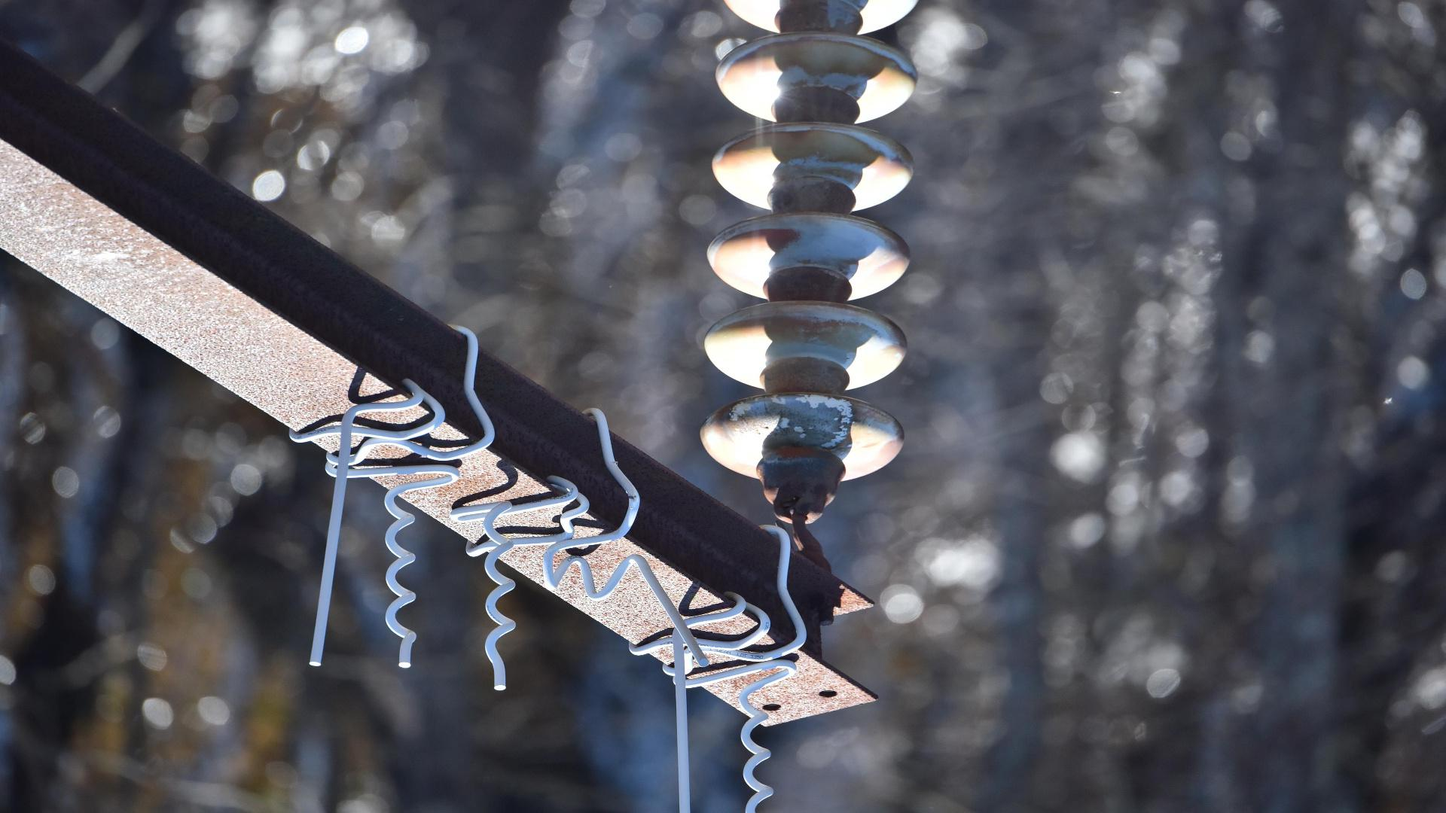insulator: (693, 1, 924, 483)
insulator_flashover: (728, 390, 854, 453)
